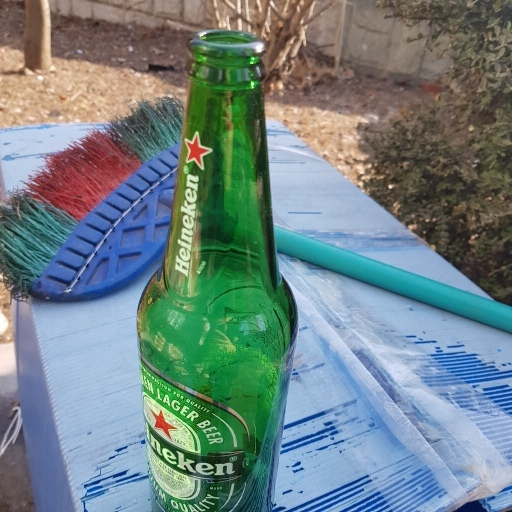Glass_1: (136, 27, 299, 512)
